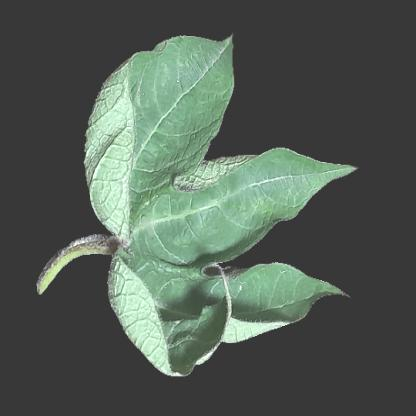curl_stage2: (100, 95, 208, 219), (118, 259, 214, 329), (217, 288, 278, 330), (144, 328, 192, 373), (208, 159, 246, 182)
healthy: (172, 38, 216, 83), (214, 210, 252, 252), (278, 269, 308, 313), (263, 179, 299, 214), (260, 158, 313, 181)
